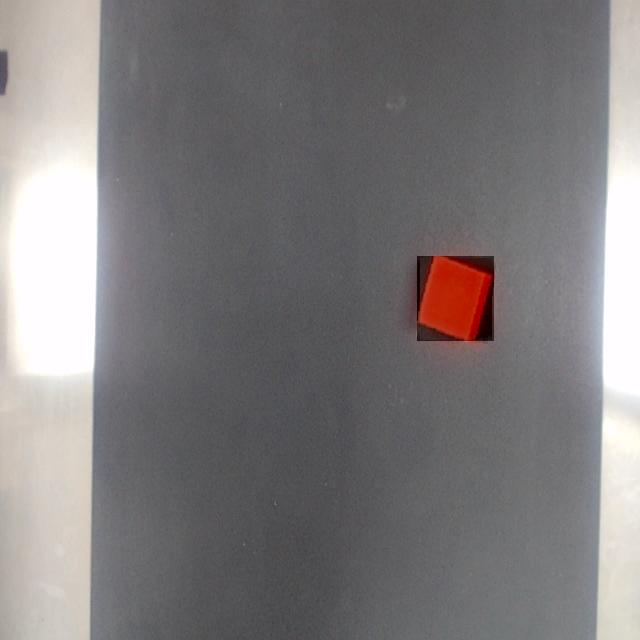Rojo: (418, 257, 494, 341)
